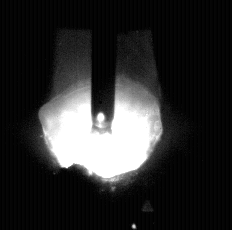arame: (92, 0, 117, 133)
poca: (41, 0, 163, 230)
